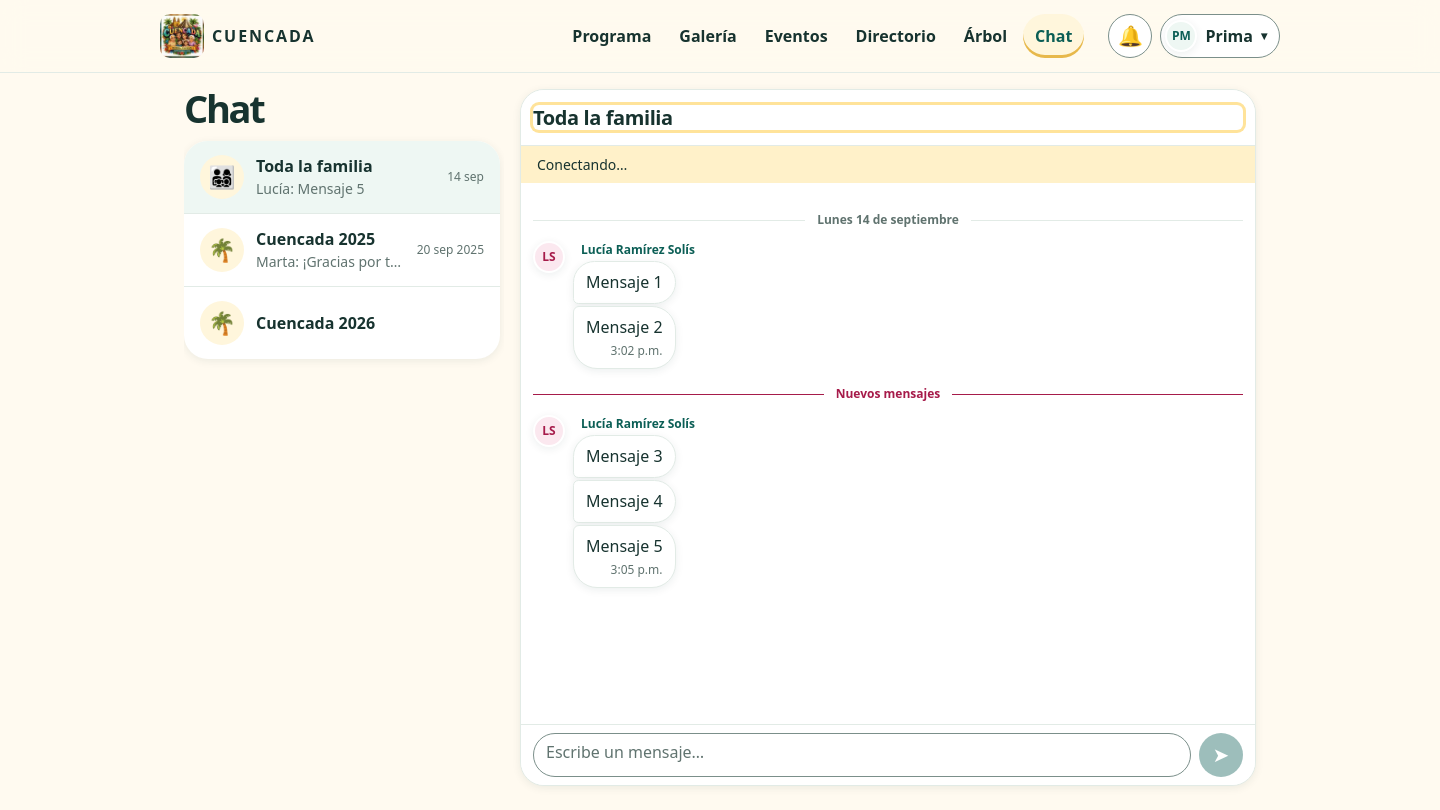
Test: ChatPage › queues a message while connecting and sends it when the socket opens
Expected: the text "Mensaje 5" is shown, top-left (586, 535), bottom-right (662, 557)
Expected: the text "Conectando…" is shown, top-left (537, 154), bottom-right (627, 175)
In the text box labelled "mensaje": (862, 755) top-left (533, 733), bottom-right (1191, 777), type "En camino"
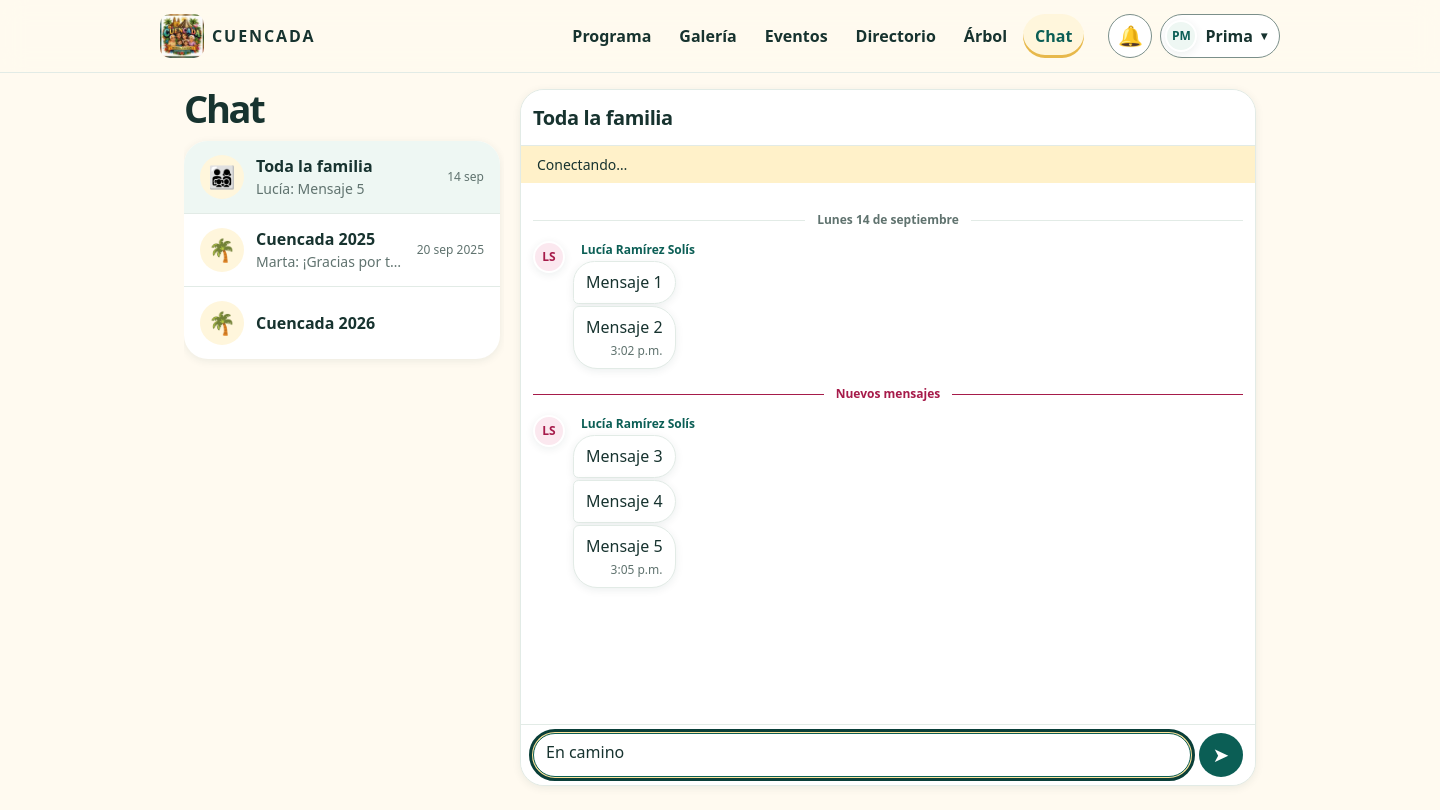
Click the button named "Enviar": (1221, 755) top-left (1199, 733), bottom-right (1243, 777)
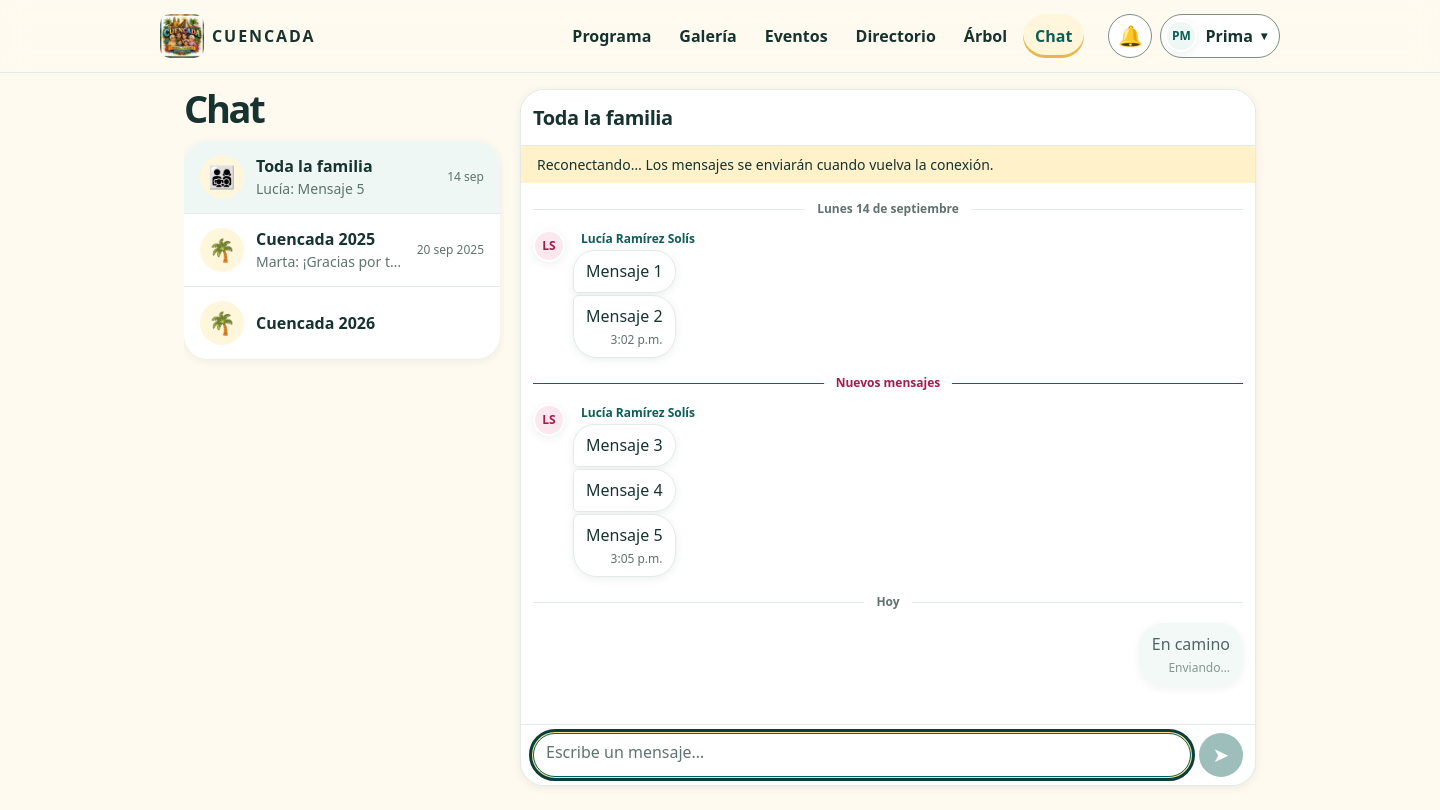
Expected: the text "Enviando…" is shown, top-left (1168, 659), bottom-right (1230, 676)
Expected: the text "Reconectando…" is shown, top-left (537, 155), bottom-right (994, 174)
